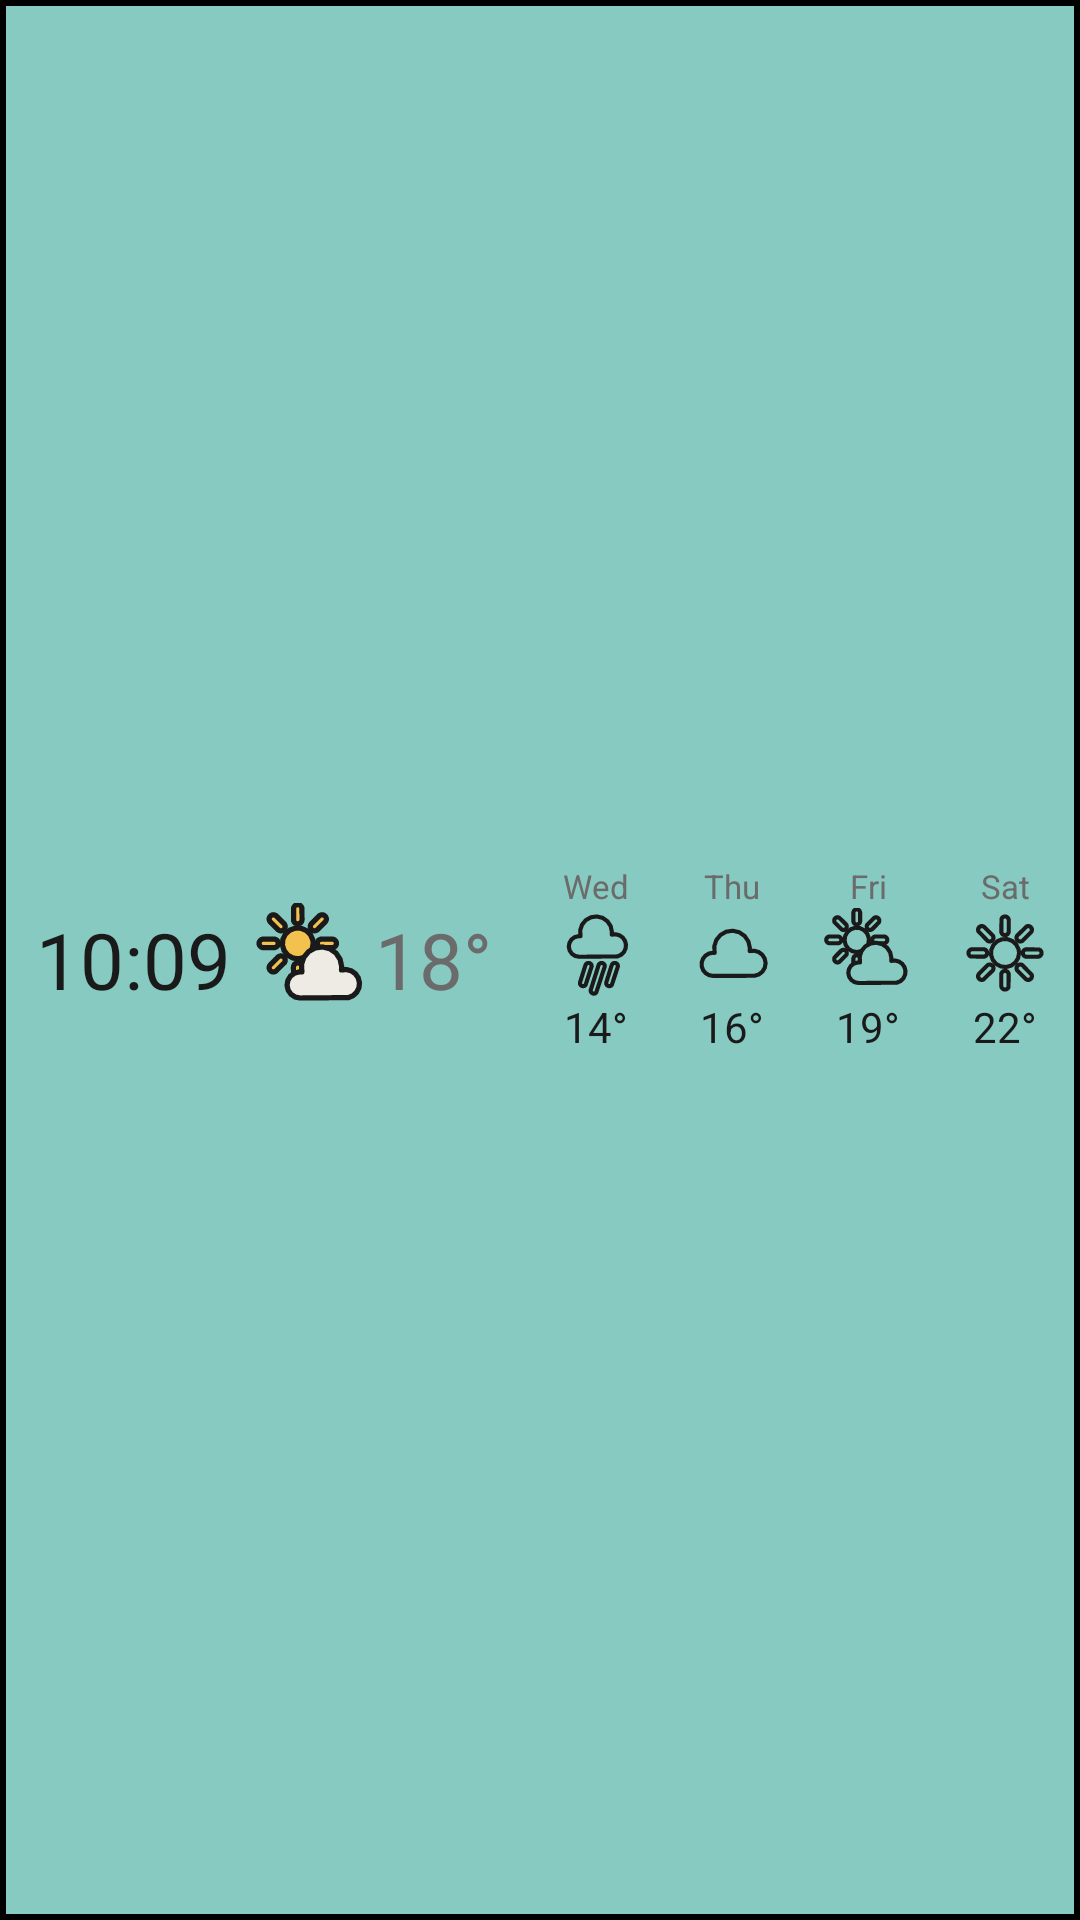

Icons on this 1080px x 1920px Android screen, each with the point to tap as (x=x, y=y):
clear: (x=1005, y=953)
cloudy: (x=733, y=953)
partly cloudy: (x=309, y=952), (x=866, y=946)
rain: (x=597, y=955)
